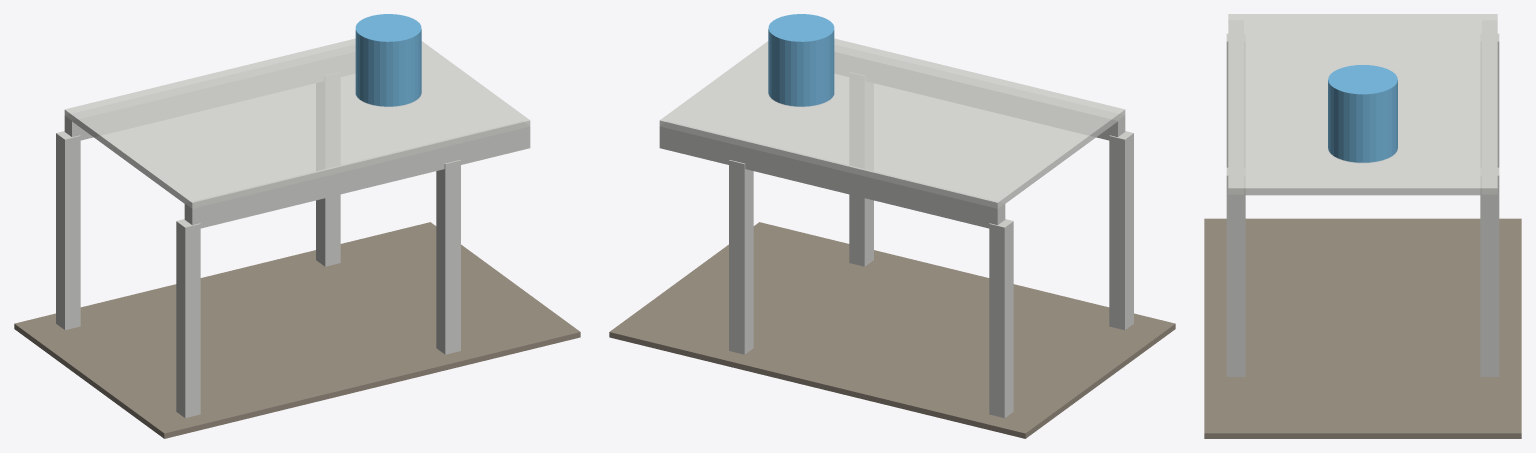
The model's file is ar-bab06-ruko-tandon.glb.
The picture shows the model from 3 angles, left to right: view 1: azimuth 30°, elevation 25°; view 2: azimuth 150°, elevation 25°; view 3: azimuth 270°, elevation 25°; orthographic projection. The views are drawn at different scales.
Visible parts, largest first — view 1: geometry_0, geometry_7, geometry_6, geometry_8, geometry_2, geometry_1, geometry_4, geometry_3; view 2: geometry_0, geometry_7, geometry_5, geometry_8, geometry_1, geometry_2, geometry_3, geometry_4; view 3: geometry_0, geometry_7, geometry_8, geometry_3, geometry_4, geometry_1, geometry_2, geometry_5, geometry_6.
Boxes of the visible parts, x1,y1,x2,y2 form: geometry_0: (14, 222, 580, 438); geometry_7: (64, 38, 530, 208); geometry_6: (184, 126, 530, 228); geometry_8: (355, 14, 421, 106); geometry_2: (176, 219, 200, 418); geometry_1: (56, 131, 80, 330); geometry_4: (436, 160, 460, 354); geometry_3: (316, 194, 340, 266); geometry_0: (609, 222, 1175, 438); geometry_7: (659, 38, 1125, 208); geometry_5: (659, 126, 1005, 228); geometry_8: (768, 14, 834, 106); geometry_1: (989, 219, 1013, 418); geometry_2: (1109, 131, 1133, 330); geometry_3: (729, 160, 753, 354); geometry_4: (849, 194, 873, 266); geometry_0: (1204, 218, 1521, 438); geometry_7: (1228, 14, 1497, 195); geometry_8: (1328, 65, 1397, 162); geometry_3: (1480, 167, 1499, 376); geometry_4: (1226, 167, 1245, 376); geometry_1: (1497, 33, 1499, 167); geometry_2: (1226, 33, 1228, 167); geometry_5: (1482, 194, 1497, 217); geometry_6: (1228, 194, 1243, 217).
Bounding box in the file's own units: 8 × 5.2 × 5.
